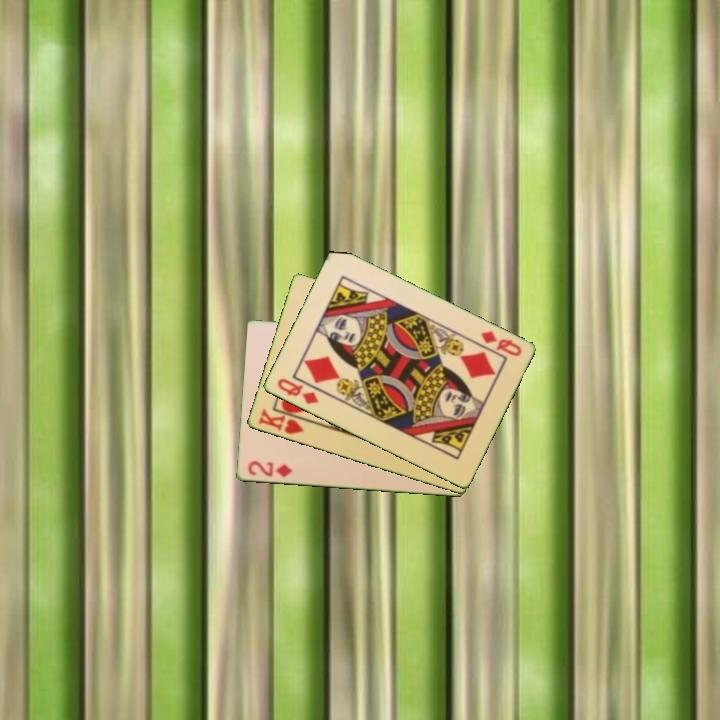2d: (244, 458, 295, 480)
Kh: (254, 406, 312, 437)
Qd: (477, 327, 524, 360), (273, 375, 321, 407)
